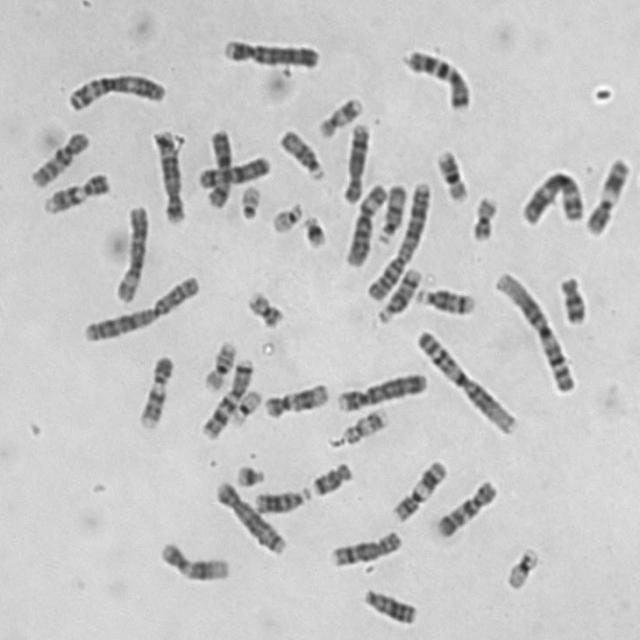A1: (410, 322, 520, 437), (487, 264, 578, 395)
A2: (78, 267, 203, 344), (360, 174, 434, 303)
A3: (62, 65, 168, 113), (514, 164, 586, 227)
B4: (330, 364, 430, 413), (216, 31, 321, 69)
B5: (208, 473, 288, 557), (146, 123, 188, 225)
C10: (430, 472, 500, 540), (25, 124, 92, 188)
C11: (579, 150, 633, 238), (386, 453, 449, 523)
C12: (154, 534, 232, 582), (258, 376, 330, 420)
C6: (340, 176, 390, 268), (108, 197, 150, 304)
C7: (397, 41, 474, 112), (196, 352, 256, 441)
C8: (324, 523, 405, 569), (337, 116, 372, 205)
C9: (37, 164, 112, 216), (132, 348, 176, 430)
D13: (357, 580, 419, 628), (248, 479, 312, 515)
D14: (372, 260, 423, 324), (408, 280, 478, 316)
D15: (274, 122, 327, 182), (372, 178, 408, 245)
E16: (198, 333, 240, 393), (430, 143, 470, 204)
E17: (311, 89, 366, 140), (337, 400, 390, 446)
E18: (553, 268, 589, 327), (306, 455, 354, 498)
F19: (500, 539, 541, 592), (224, 382, 264, 428)
F20: (241, 284, 286, 329), (464, 189, 500, 243)
G21: (296, 207, 329, 249), (230, 457, 267, 488)
G22: (265, 194, 305, 234), (234, 178, 262, 222)
X: (191, 148, 273, 188), (202, 123, 236, 210)
